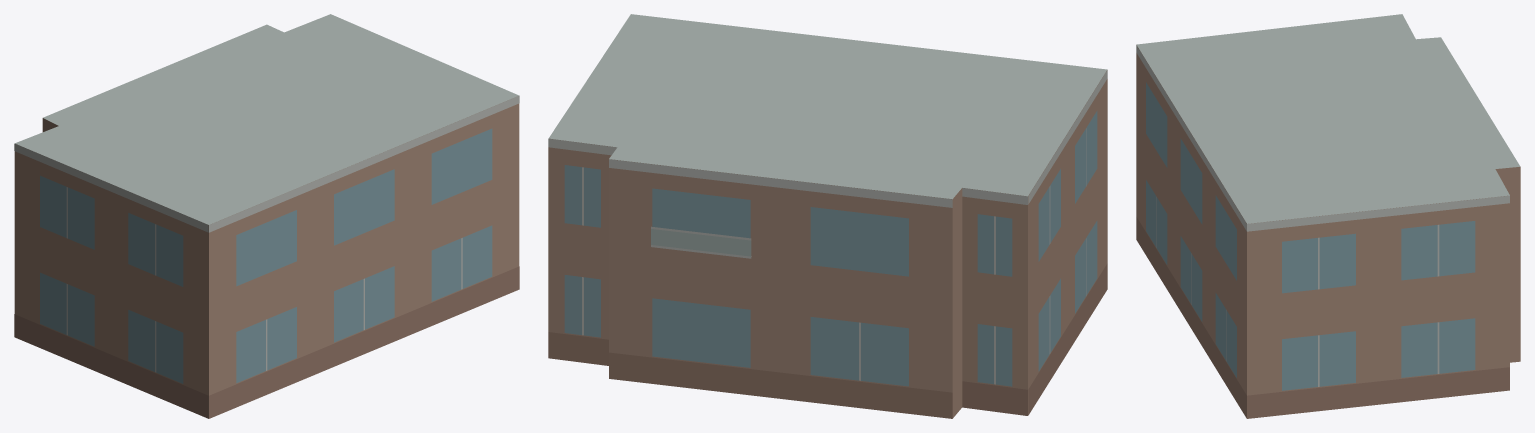
File: survey-upis-32721799.glb
3 views of the same model, side by side, from view 1: azimuth 30°, elevation 25°; view 2: azimuth 150°, elevation 25°; view 3: azimuth 270°, elevation 25° (orthographic). The views are drawn at different scales.
Visible parts, largest first — view 1: survey-upis-32721799.tmp; view 2: survey-upis-32721799.tmp; view 3: survey-upis-32721799.tmp.
Part boxes in pixels (box(x1,y1,x2,y2)): survey-upis-32721799.tmp: box(14, 14, 519, 418); survey-upis-32721799.tmp: box(548, 14, 1107, 418); survey-upis-32721799.tmp: box(1136, 14, 1520, 418).
Size of the model in its own units: 14.09 by 6.1 by 10.91.
